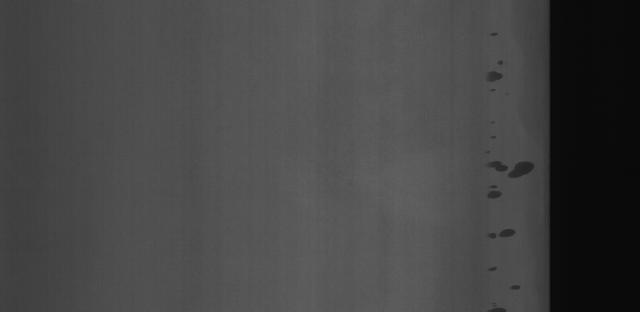oil_spot: (485, 148, 542, 181), (482, 223, 522, 245), (494, 278, 527, 300), (483, 61, 512, 85), (476, 182, 506, 202)
